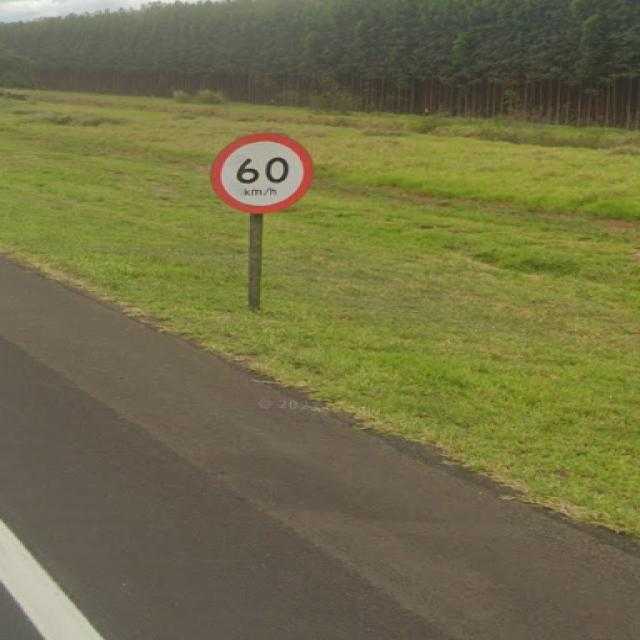speed limit: (197, 124, 338, 225)
